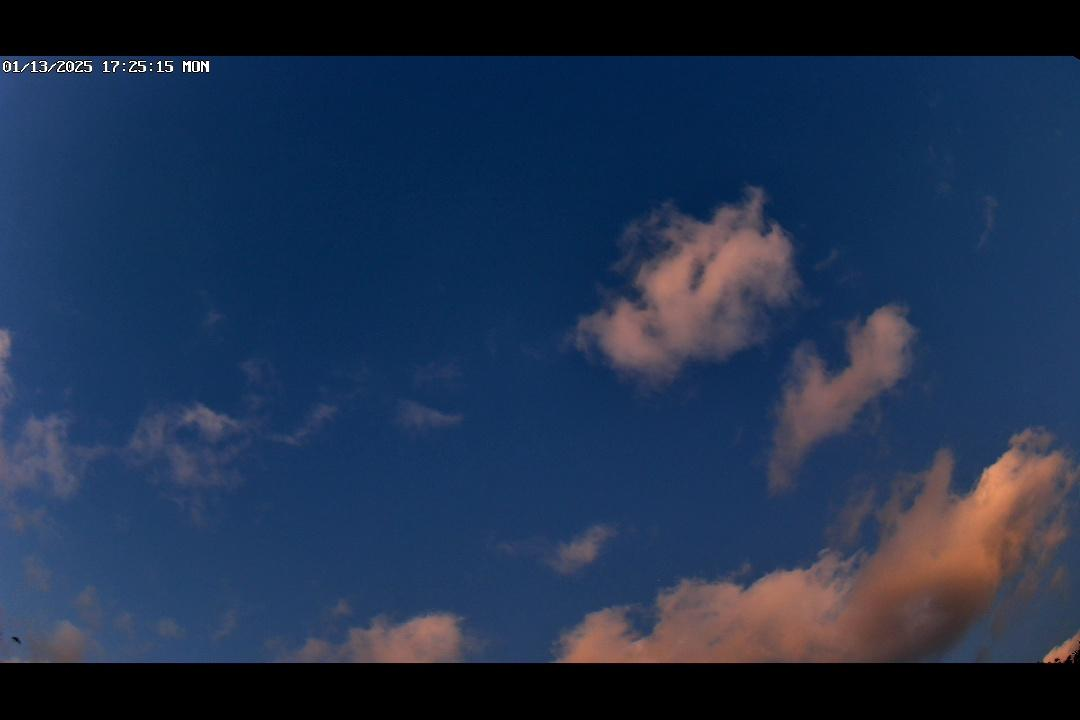WildLife: (0, 629, 30, 648)
